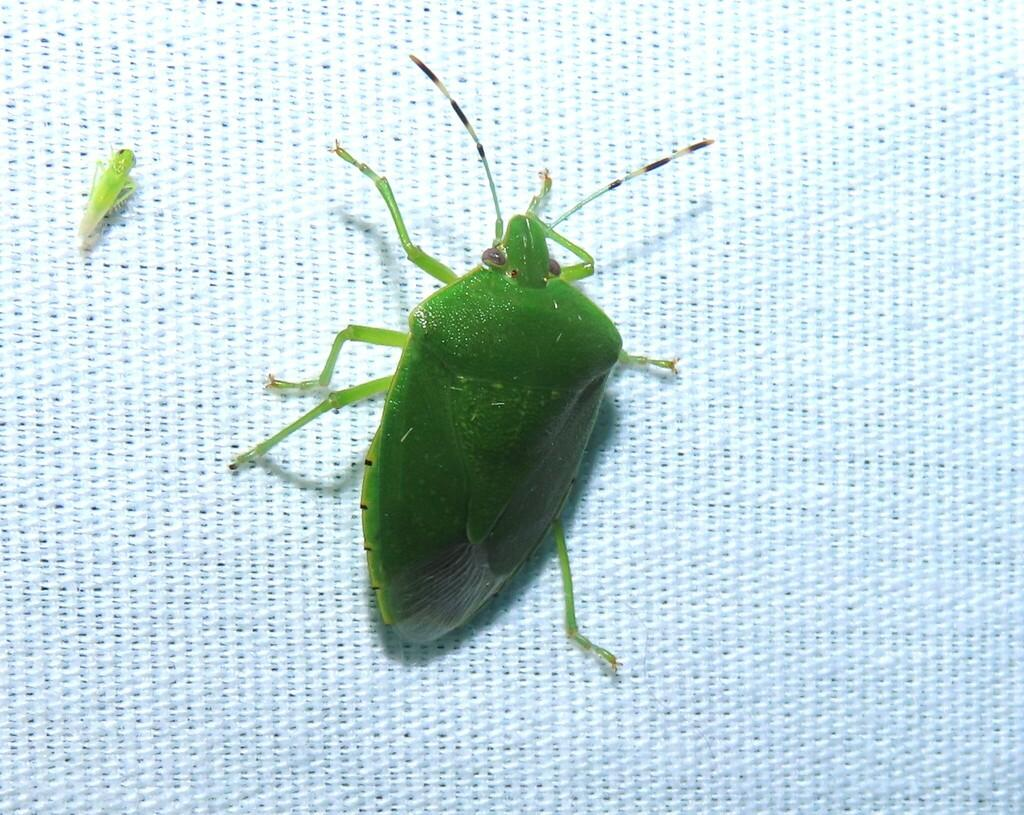stink_bugs: (162, 0, 825, 812)
